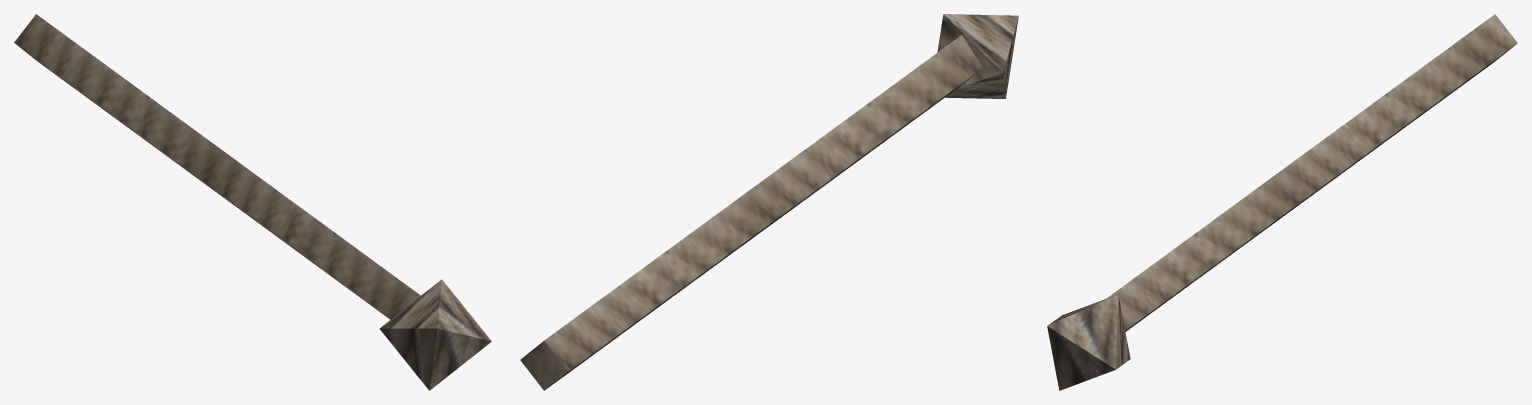
File: Hanging_Rope.fbx
3 renders of one model, left to right at view 1: azimuth 30°, elevation 25°; view 2: azimuth 150°, elevation 25°; view 3: azimuth 330°, elevation 25°, orthographic. The views are drawn at different scales.
Parts seen in each view (by area): view 1: Hanging_Rope; view 2: Hanging_Rope; view 3: Hanging_Rope.
Boxes of the visible parts, x1,y1,x2,y2 form: Hanging_Rope: (14, 14, 491, 390); Hanging_Rope: (520, 14, 1018, 390); Hanging_Rope: (1047, 14, 1517, 390).
Size of the model in its own units: 0.1306 by 0.1306 by 1.15.
